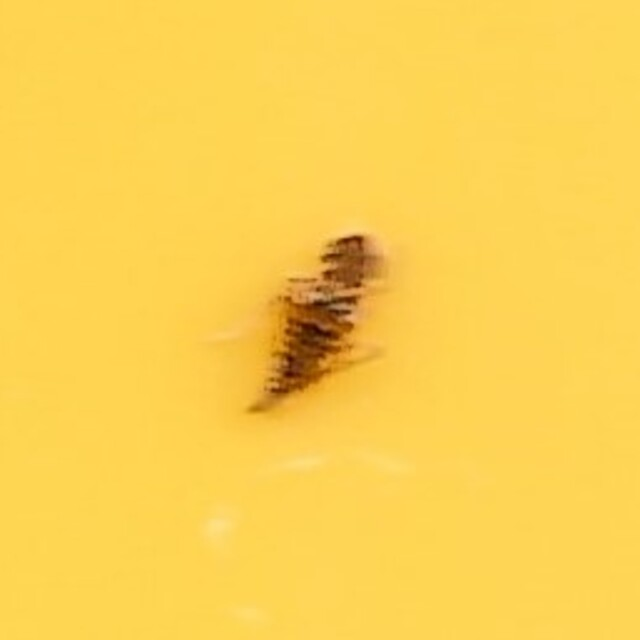Hemiptera: (249, 225, 391, 415)
